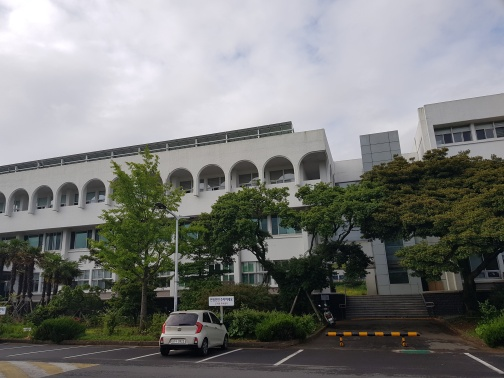Main Building of University: (8, 119, 499, 305), (167, 154, 297, 198), (10, 178, 107, 217)
